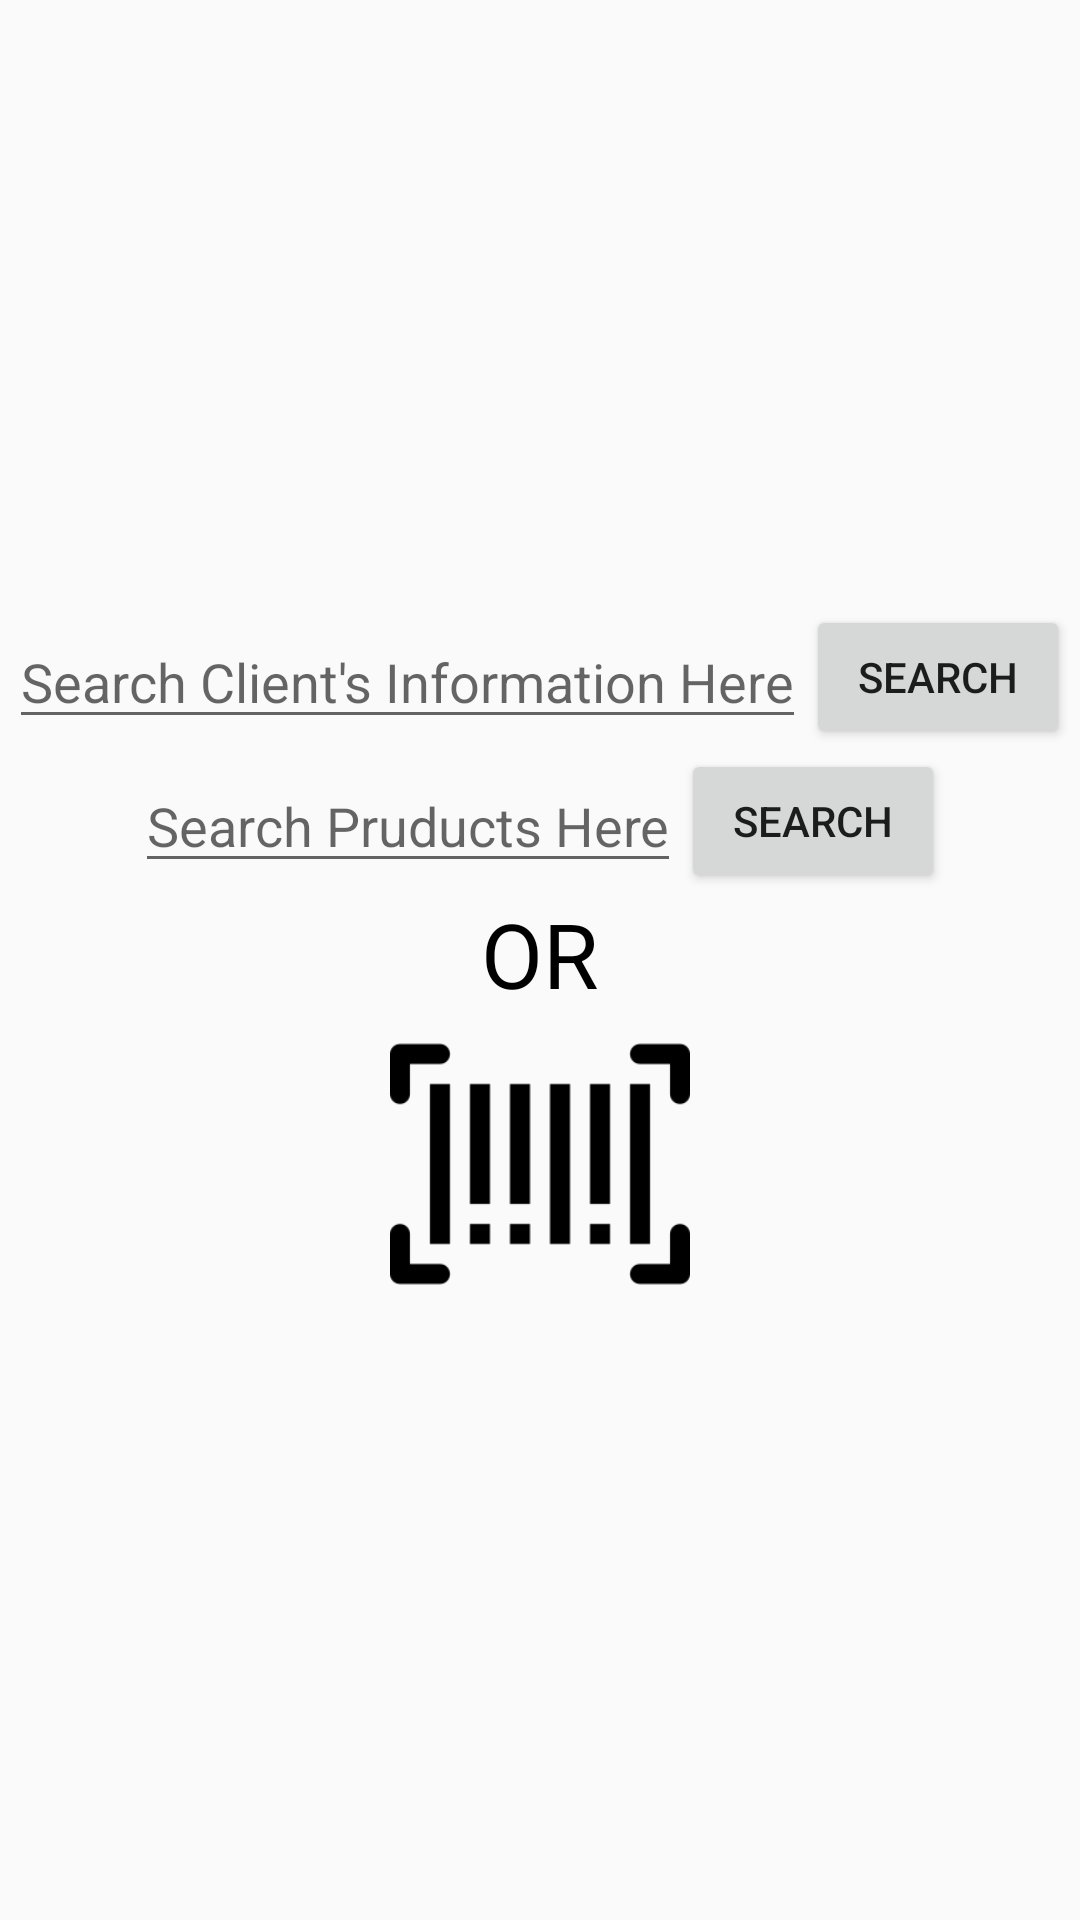

Icons on this 1080*1920 Android screen, each with its box as [x1,y1,x2,y2]:
barcode: [390,1043,690,1285]
